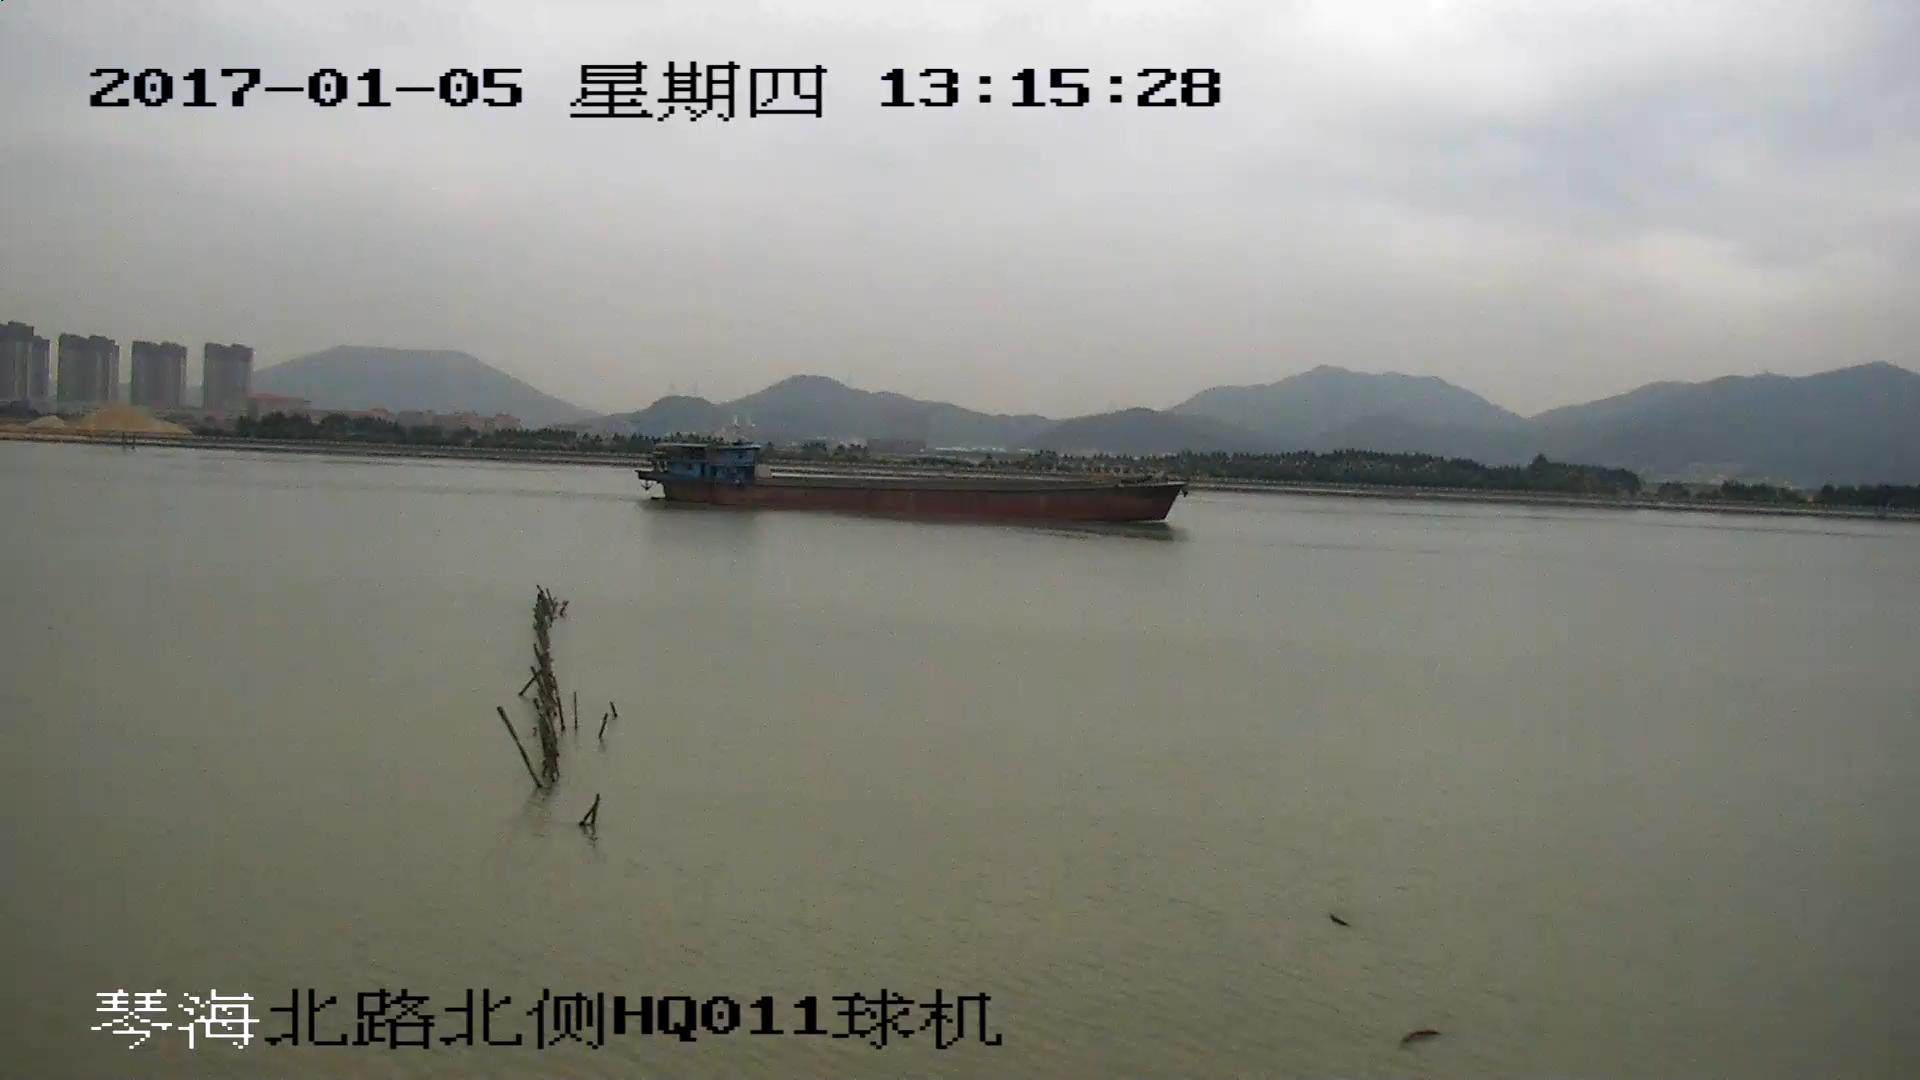Ship: (636, 443, 1192, 524)
